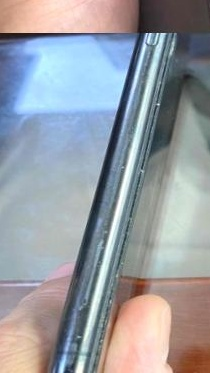scratch: (56, 222, 116, 373), (149, 33, 182, 62), (120, 142, 146, 175), (138, 80, 163, 110)
